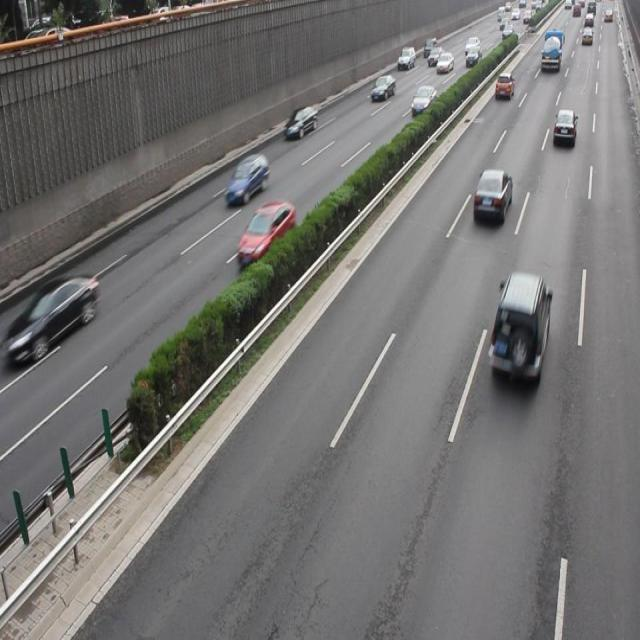car: (11, 274, 99, 364), (486, 270, 550, 382), (236, 199, 296, 267), (471, 166, 512, 224), (224, 152, 267, 207), (283, 105, 317, 140), (552, 107, 575, 145), (409, 84, 436, 115)
